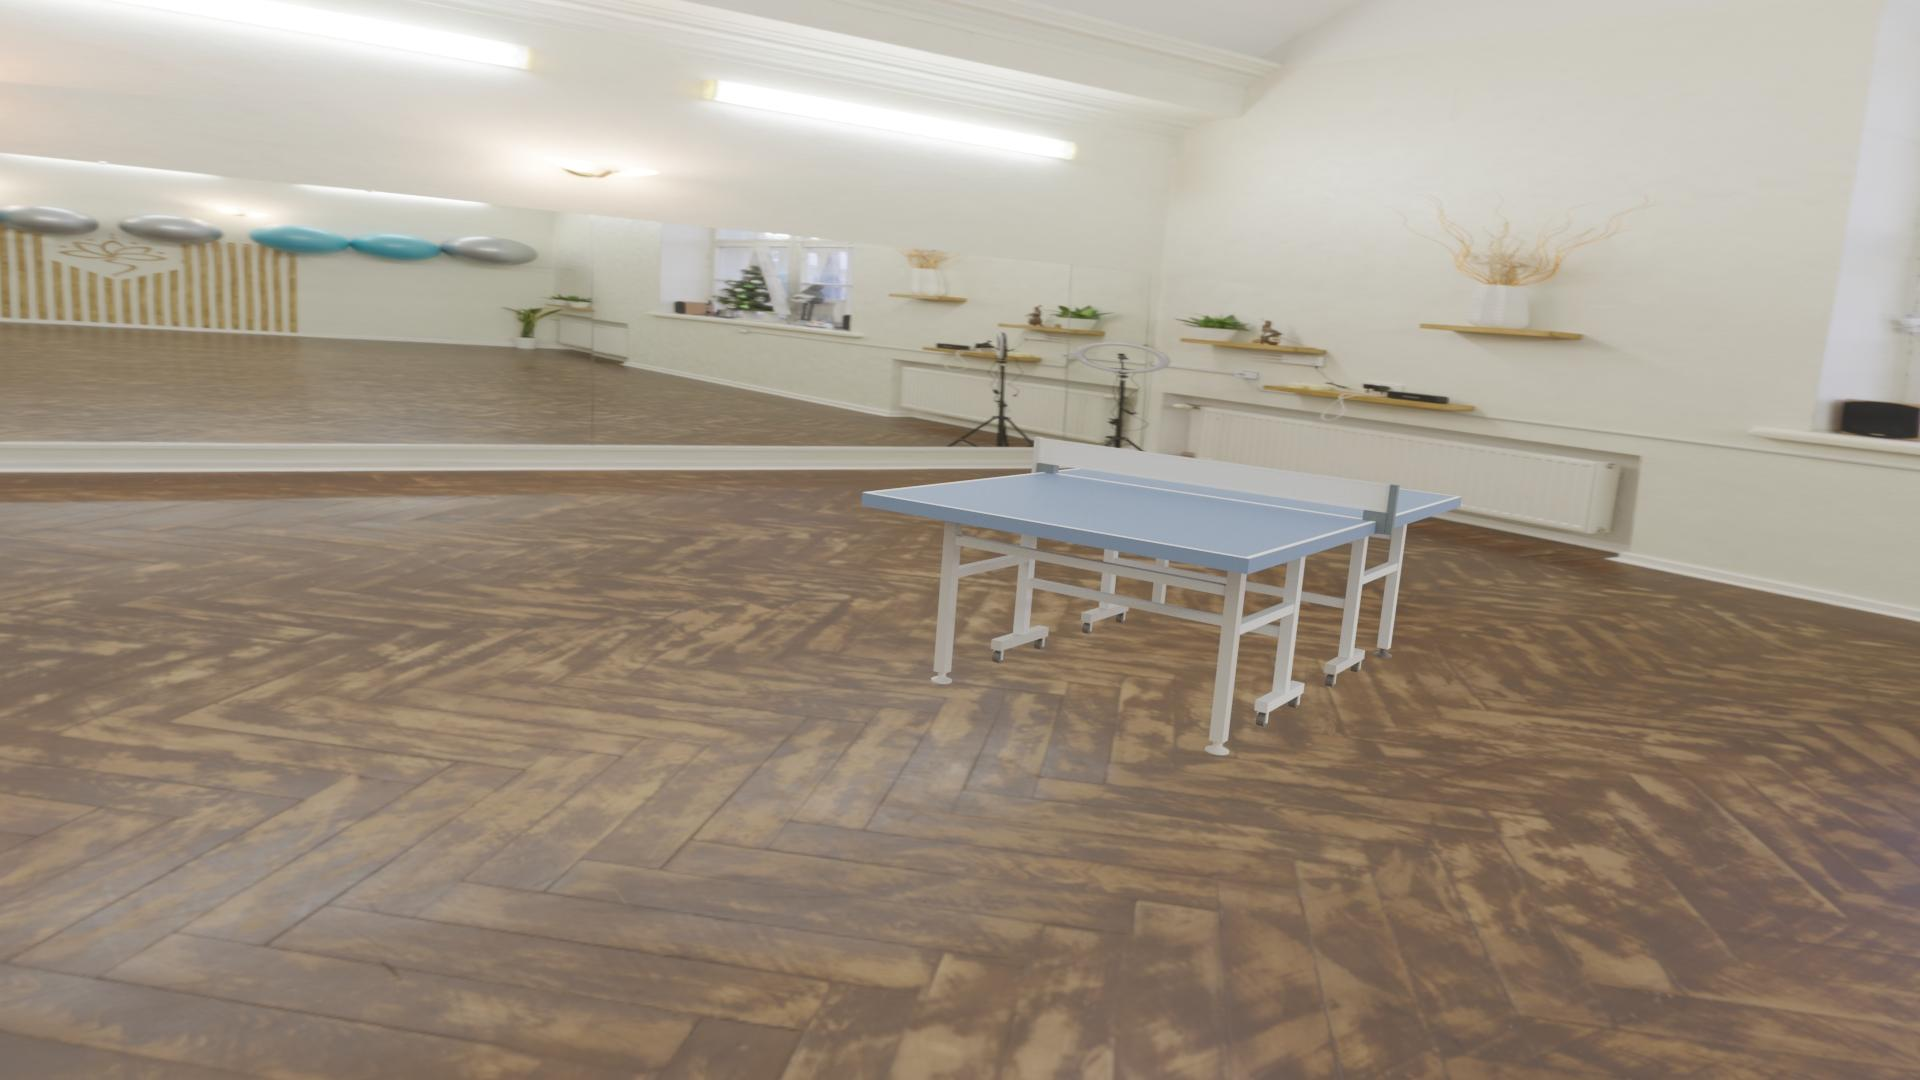table: (870, 459, 1456, 556)
